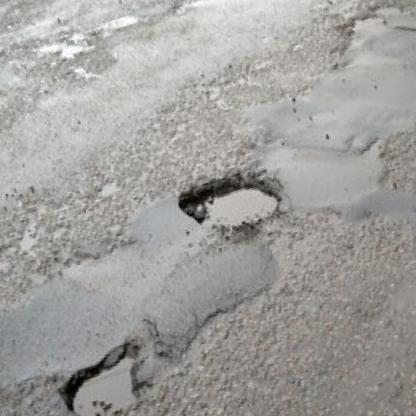pothole: (176, 161, 287, 250), (51, 333, 160, 416)
